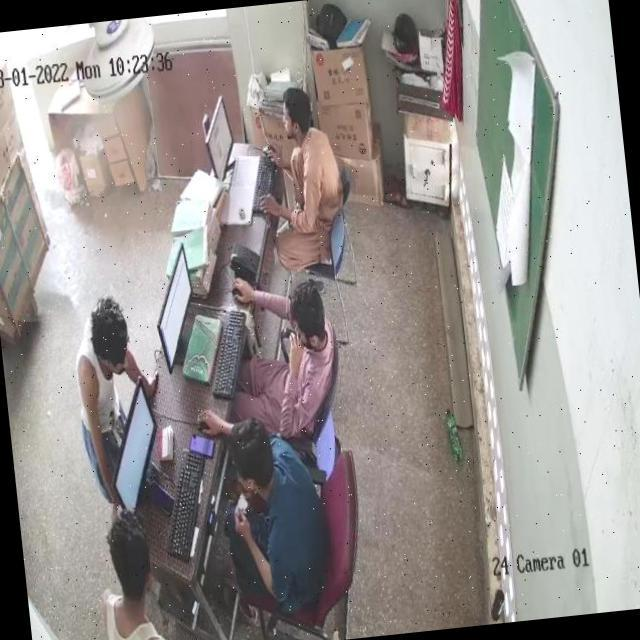person: (216, 409, 330, 606), (235, 278, 338, 430), (65, 299, 145, 486), (268, 80, 339, 266), (88, 505, 174, 640)
